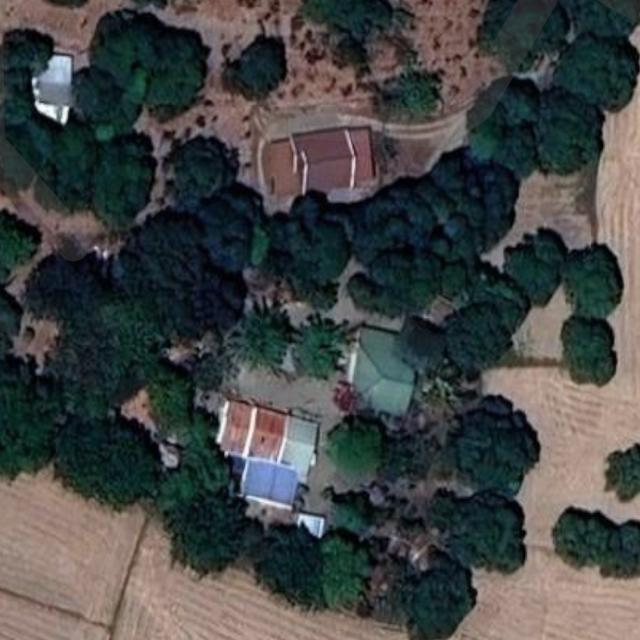Tree: (117, 208, 244, 343), (44, 302, 163, 417), (92, 8, 208, 125), (420, 144, 516, 256), (52, 412, 157, 511), (444, 396, 537, 504), (466, 70, 542, 187), (428, 489, 526, 577), (166, 485, 248, 585), (548, 503, 640, 589), (550, 31, 640, 116), (0, 358, 62, 481), (354, 176, 436, 268), (21, 250, 116, 328), (272, 189, 347, 286), (396, 550, 476, 640), (346, 248, 439, 324), (530, 82, 606, 174), (475, 0, 567, 76), (88, 129, 154, 232), (552, 237, 626, 326), (255, 522, 322, 609), (200, 184, 262, 278), (34, 122, 95, 213), (445, 300, 513, 375), (315, 534, 376, 614), (222, 30, 287, 105), (558, 312, 618, 390), (228, 302, 286, 381), (169, 135, 230, 210), (505, 230, 563, 308), (299, 0, 398, 43), (329, 410, 386, 476), (147, 364, 192, 444), (294, 314, 346, 382), (0, 100, 38, 192), (432, 240, 487, 301), (398, 313, 448, 374), (0, 26, 52, 80), (167, 406, 223, 456), (601, 440, 640, 508), (385, 67, 436, 118), (0, 214, 42, 274), (74, 66, 112, 120), (328, 491, 375, 530)
